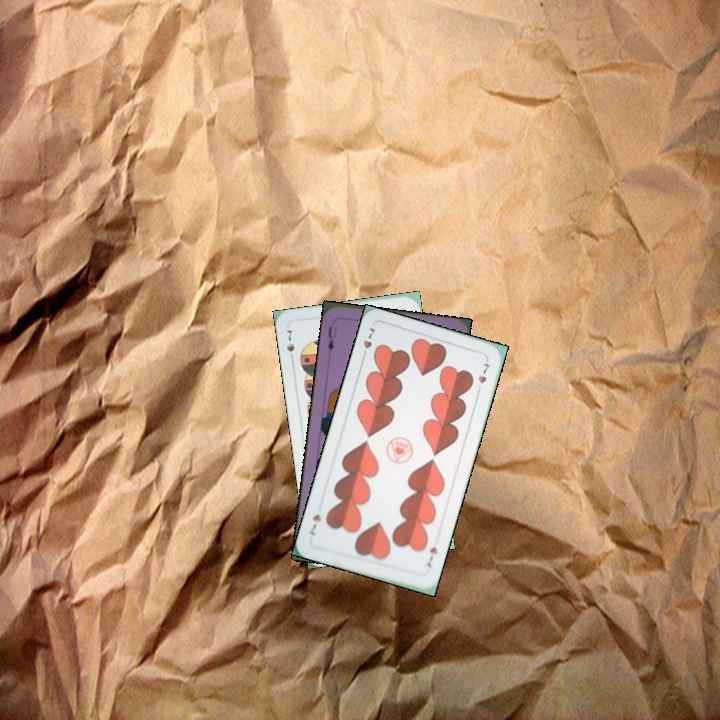EU: (323, 322, 340, 358)
H7: (358, 323, 378, 362), (423, 543, 440, 570)
S7: (282, 325, 297, 364)
